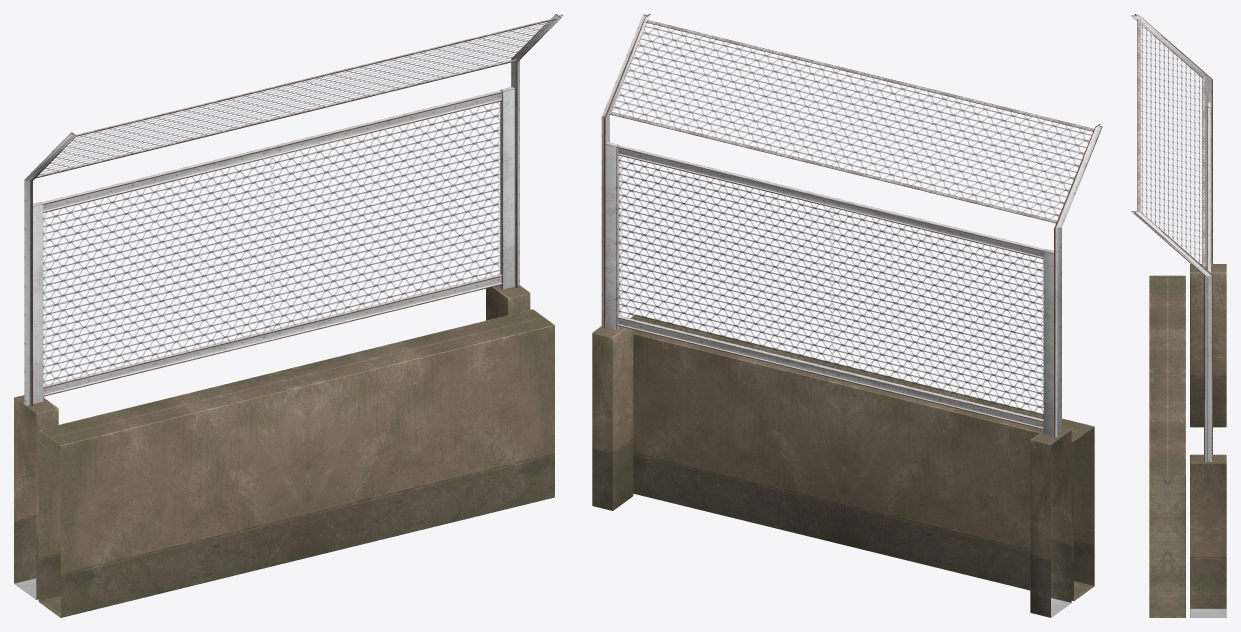
The model's file is race_fence.glb.
3 views of the same model, side by side, from view 1: azimuth 30°, elevation 25°; view 2: azimuth 150°, elevation 25°; view 3: azimuth 270°, elevation 25° (orthographic). The views are drawn at different scales.
Parts seen in each view (by area): view 1: Cube.000; view 2: Cube.000; view 3: Cube.000.
Part boxes in pixels (x1,y1,x2,y2): Cube.000: (14, 14, 563, 617); Cube.000: (592, 14, 1102, 617); Cube.000: (1131, 14, 1226, 617).
Bounding box in the file's own units: 450 × 425 × 91.16.
Materials: 1 (1 with a texture image).
